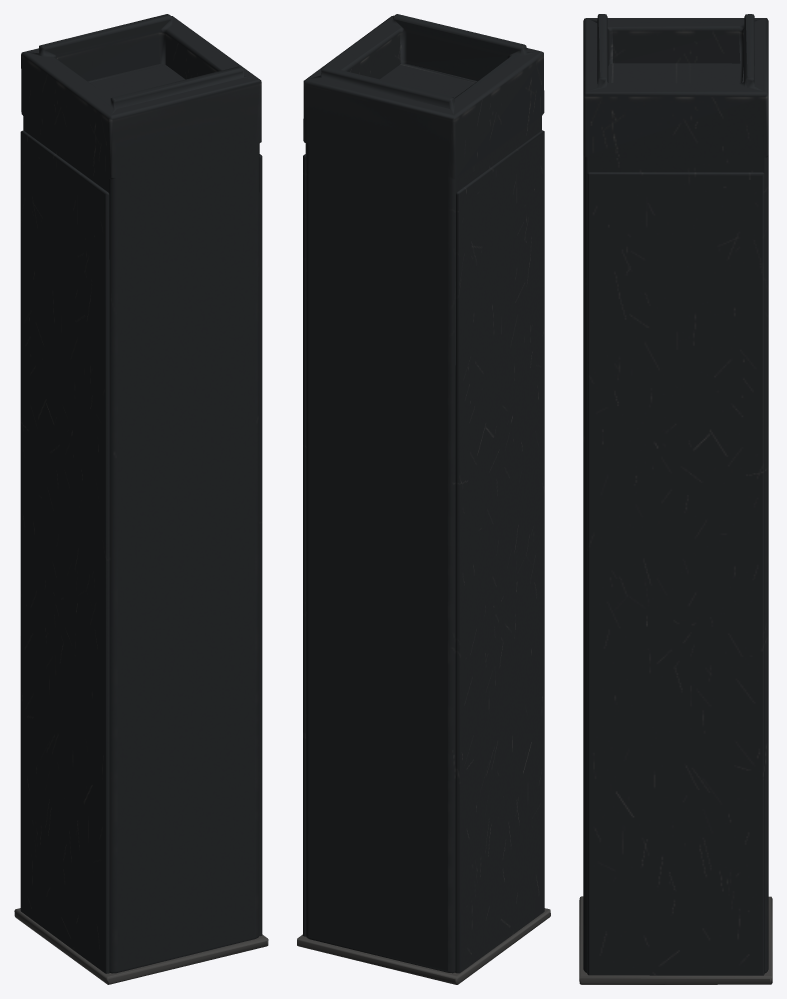
Rendered from SM_MAC10_Magazine_LOD1.fbx.
The picture shows the model from 3 angles, left to right: view 1: azimuth 30°, elevation 25°; view 2: azimuth 150°, elevation 25°; view 3: azimuth 270°, elevation 25°; orthographic projection. The views are drawn at different scales.
Parts seen in each view (by area): view 1: SM_MAC10_Magazine_LOD1; view 2: SM_MAC10_Magazine_LOD1; view 3: SM_MAC10_Magazine_LOD1.
Part boxes in pixels (<box>): SM_MAC10_Magazine_LOD1: <box>14,14,268,984</box>; SM_MAC10_Magazine_LOD1: <box>297,14,550,984</box>; SM_MAC10_Magazine_LOD1: <box>579,14,772,984</box>.
Size of the model in its own units: 3.7 by 3.73 by 19.15.
1 material, 1 textured.
